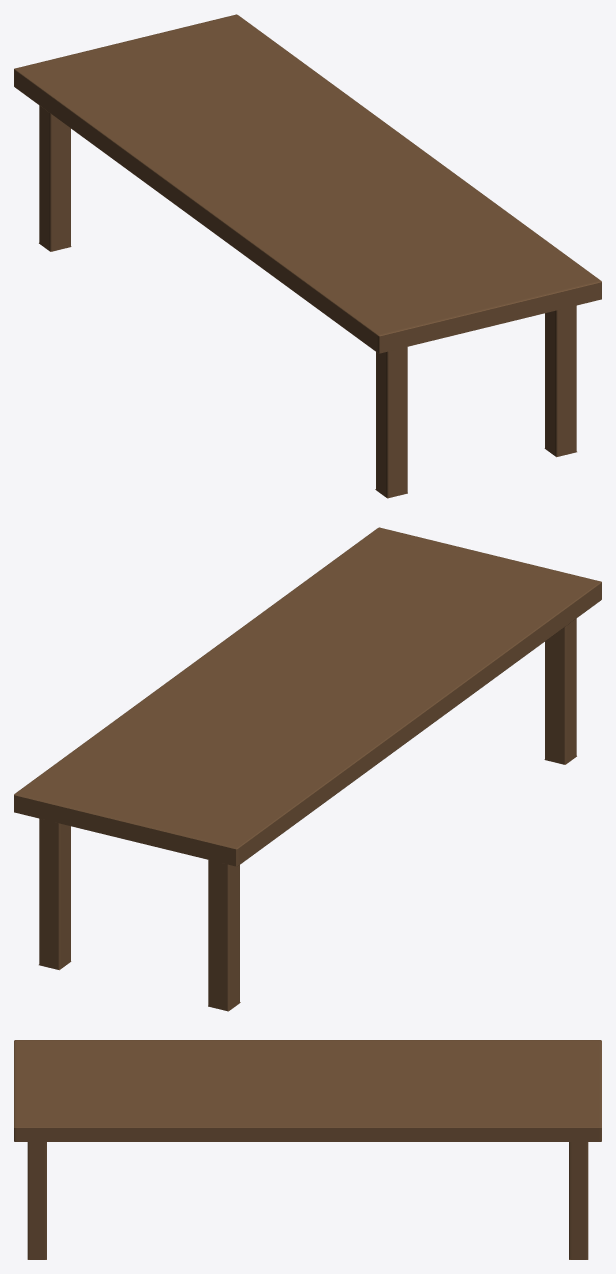
File: table_2.fbx
3 views of the same model, one above another, from view 1: azimuth 30°, elevation 25°; view 2: azimuth 150°, elevation 25°; view 3: azimuth 270°, elevation 25° (orthographic). The views are drawn at different scales.
Visible parts, largest first — view 1: table_2_export; view 2: table_2_export; view 3: table_2_export.
Boxes of the visible parts, bbox=[...] form: table_2_export: bbox=[14, 14, 601, 498]; table_2_export: bbox=[14, 527, 601, 1011]; table_2_export: bbox=[14, 1040, 601, 1259].
Size of the model in its own units: 168 by 124 by 476.
